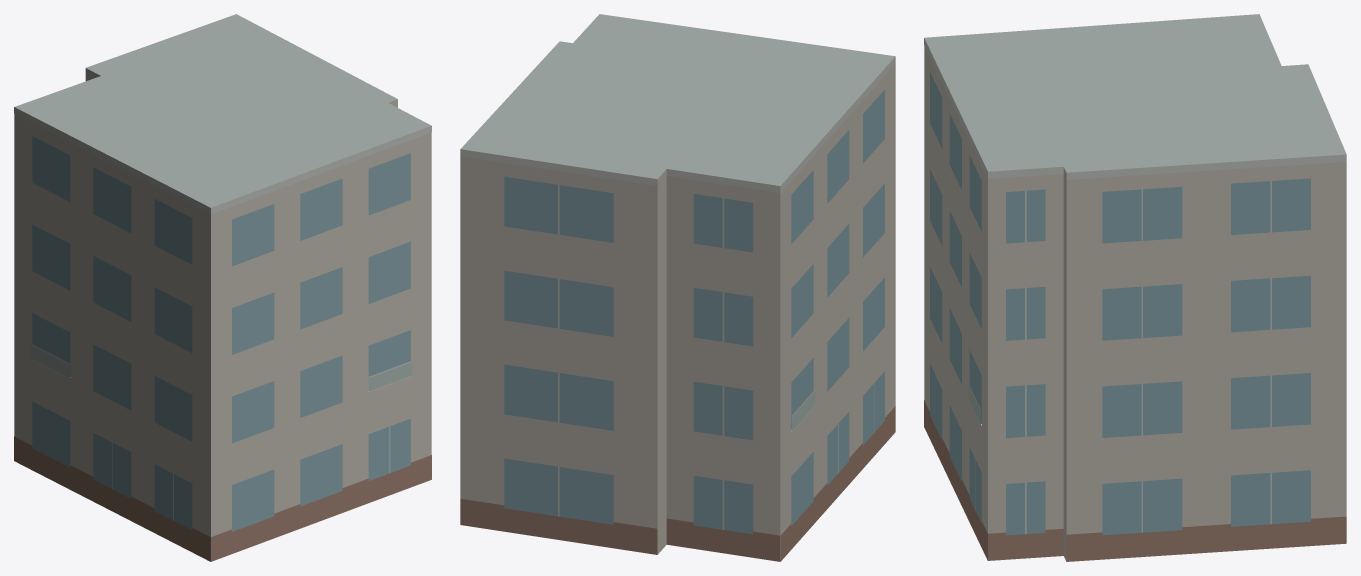
The model's file is survey-upis-32671275.glb.
3 renders of one model, left to right at view 1: azimuth 30°, elevation 25°; view 2: azimuth 150°, elevation 25°; view 3: azimuth 270°, elevation 25°, orthographic. The views are drawn at different scales.
Parts seen in each view (by area): view 1: survey-upis-32671275.tmp; view 2: survey-upis-32671275.tmp; view 3: survey-upis-32671275.tmp.
Boxes of the visible parts, <box> form: survey-upis-32671275.tmp: <box>14,14,431,561</box>; survey-upis-32671275.tmp: <box>460,14,895,561</box>; survey-upis-32671275.tmp: <box>924,14,1346,561</box>.
Size of the model in its own units: 11.44 by 13.07 by 12.87.
